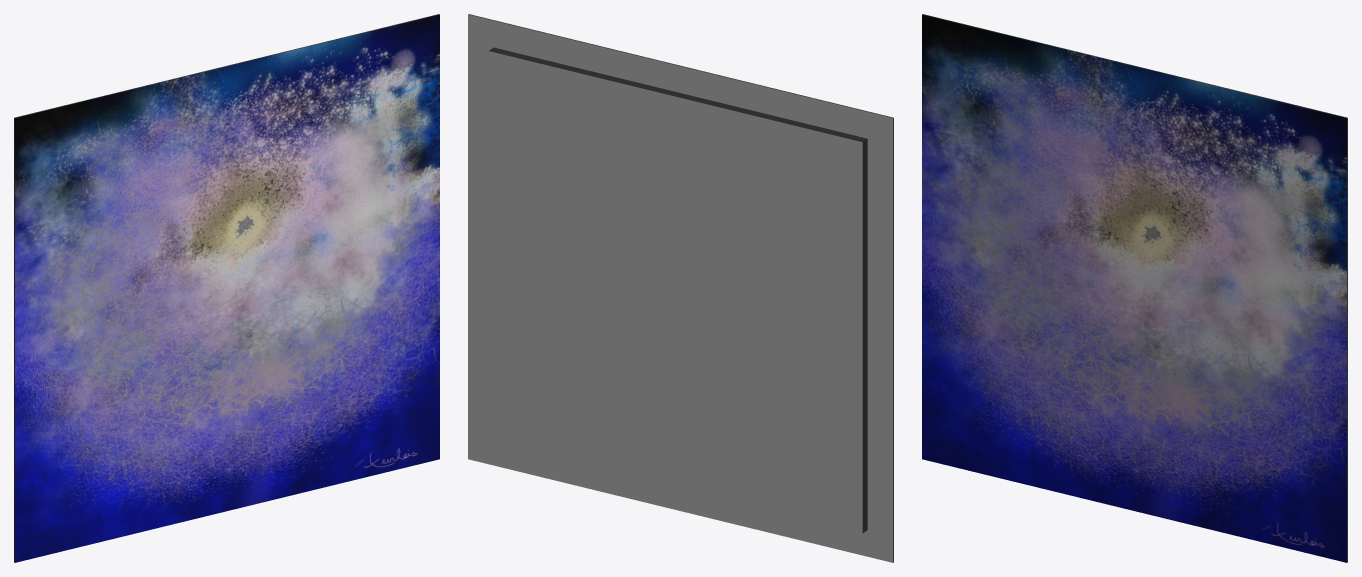
Rendered from va043_grand_dibond.glb.
3 views of the same model, side by side, from view 1: azimuth 30°, elevation 25°; view 2: azimuth 150°, elevation 25°; view 3: azimuth 330°, elevation 25° (orthographic).
Visible parts, largest first — view 1: va043_grand_dibond; view 2: va043_grand_dibond; view 3: va043_grand_dibond.
Boxes of the visible parts, left/top/right/bottom form: va043_grand_dibond: left=14, top=14, right=439, bottom=562; va043_grand_dibond: left=468, top=14, right=893, bottom=562; va043_grand_dibond: left=922, top=14, right=1347, bottom=562.
Bounding box in the file's own units: 1 × 1 × 0.023.
4 materials, 1 textured.
